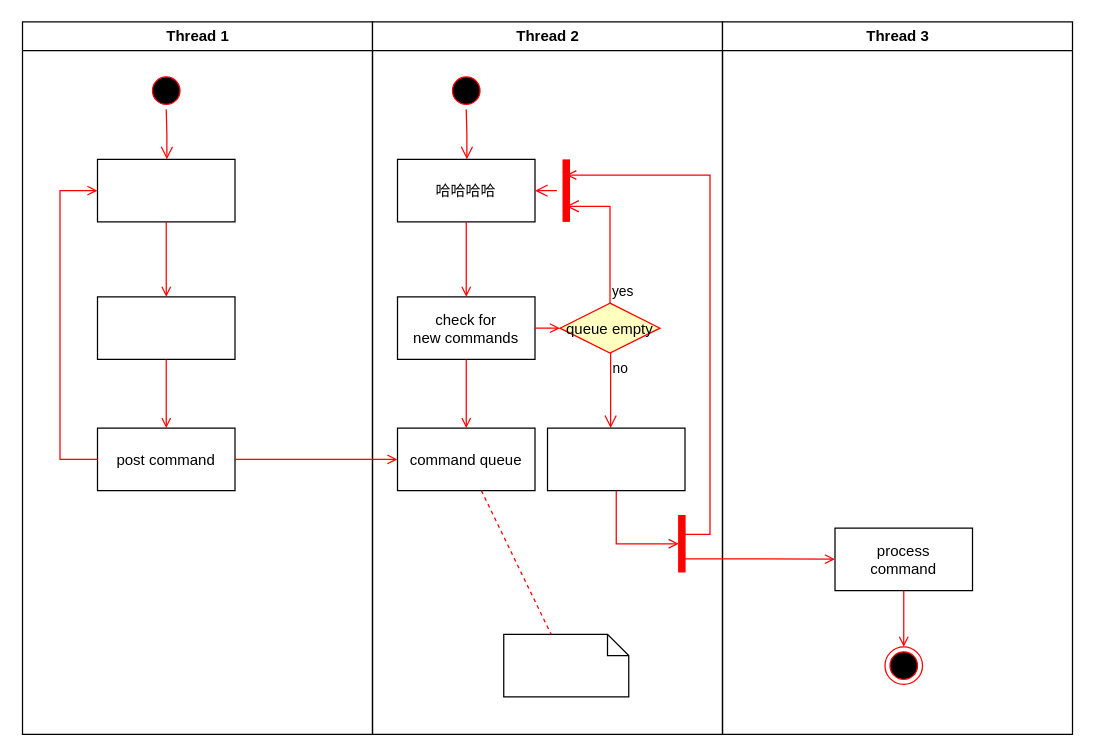
The diagram is 1094 pixels wide and 756 high, and some of its shapes have lost their labels. Each missing label, with the centre of its shape:
"critical section" belongs at point 565,665.
"dispatch command worker thread" belongs at point 615,459.
"idle" belongs at point 165,190.
"user action" belongs at point 165,327.
